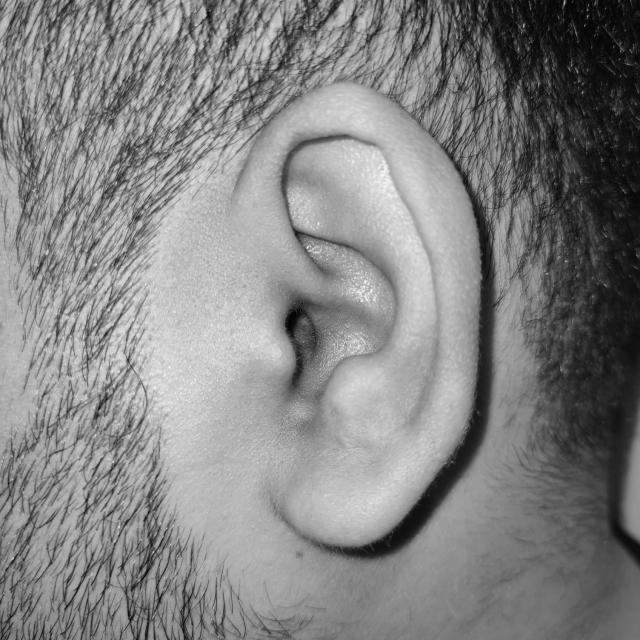ear: (231, 83, 481, 547), (252, 368, 267, 383), (260, 394, 270, 401), (261, 385, 265, 389)
